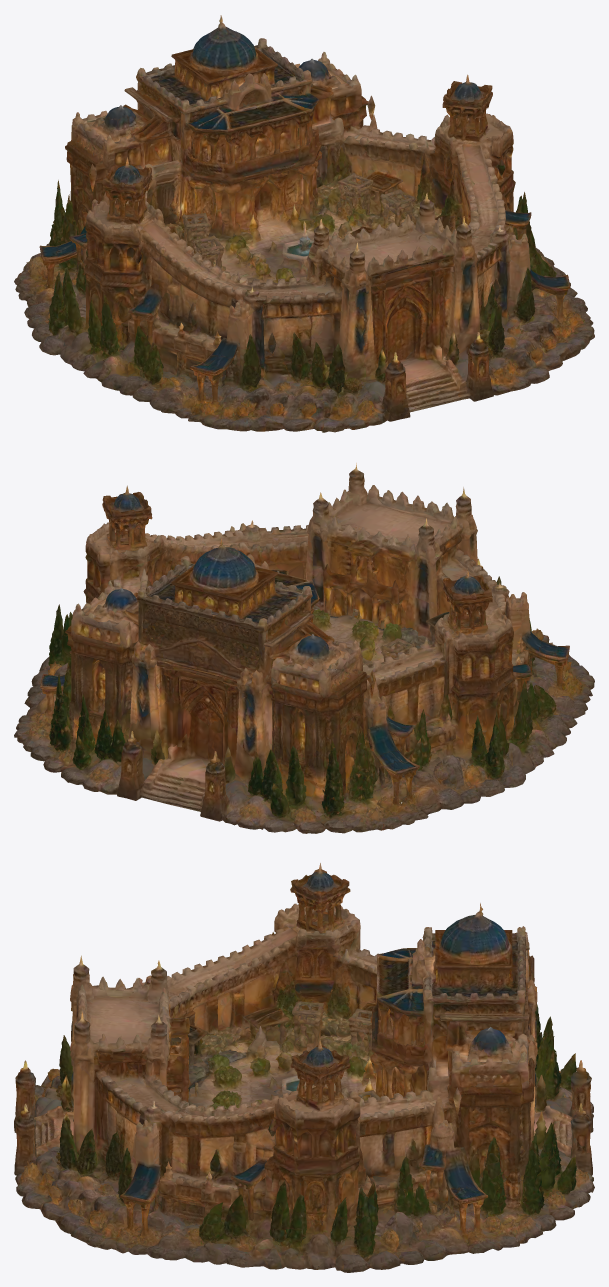
The model's file is SamanganPalace.glb.
3 renders of one model, top to bottom at view 1: azimuth 30°, elevation 25°; view 2: azimuth 150°, elevation 25°; view 3: azimuth 270°, elevation 25°, orthographic. The views are drawn at different scales.
Size of the model in its own units: 1.9 by 0.8977 by 1.88.
1 material, 1 textured.
